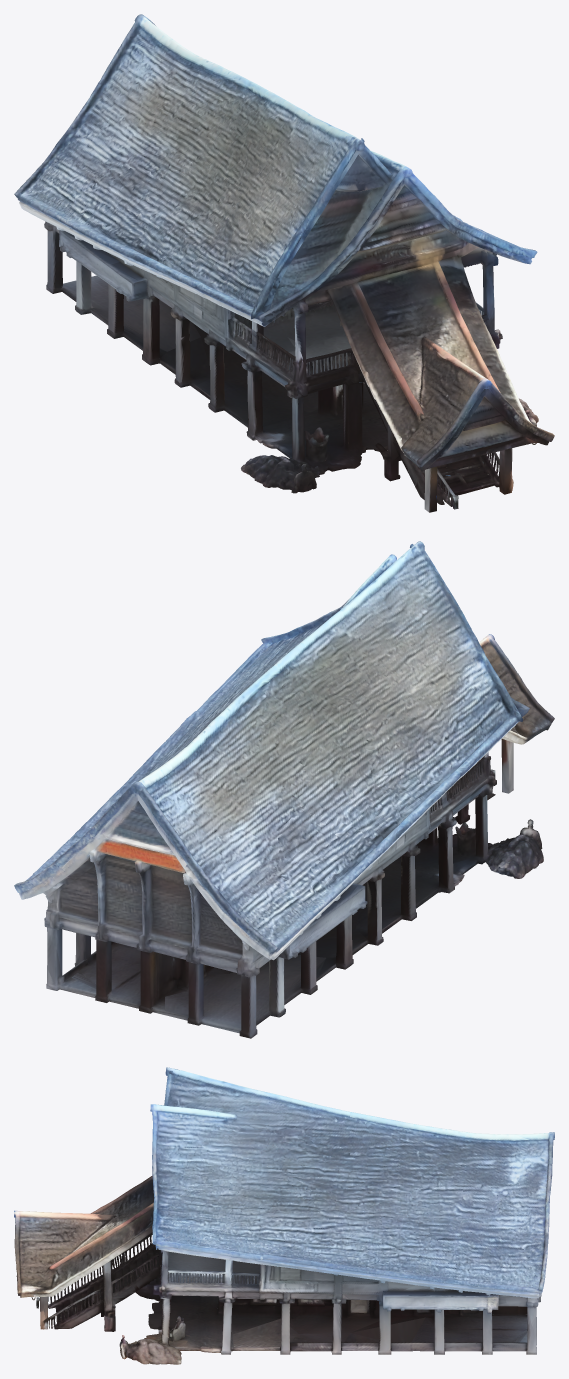
The model's file is laika.glb.
The picture shows the model from 3 angles, top to bottom: view 1: azimuth 30°, elevation 25°; view 2: azimuth 150°, elevation 25°; view 3: azimuth 270°, elevation 25°; orthographic projection. The views are drawn at different scales.
Parts seen in each view (by area): view 1: Rumah adat laika; view 2: Rumah adat laika; view 3: Rumah adat laika.
Part boxes in pixels (bbox=[...]): Rumah adat laika: bbox=[14, 14, 554, 512]; Rumah adat laika: bbox=[14, 541, 554, 1038]; Rumah adat laika: bbox=[14, 1067, 554, 1364].
Size of the model in its own units: 0.8662 by 0.9162 by 1.9.
1 material, 1 textured.
